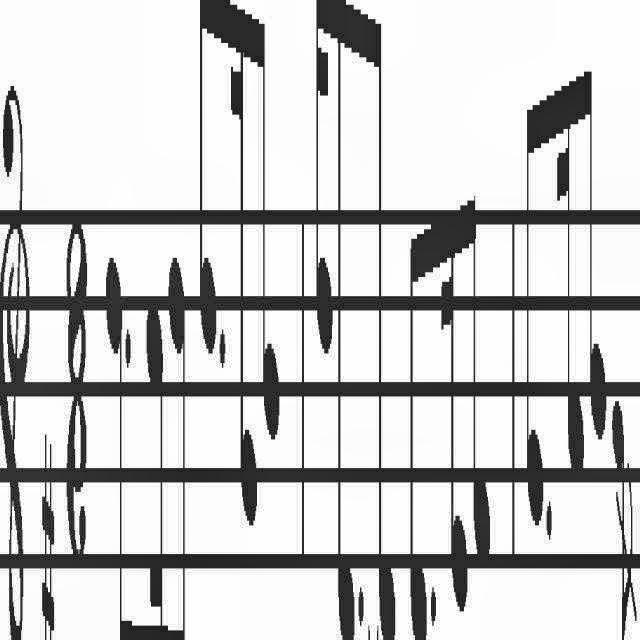Bass-clef: (0, 76, 30, 640)
Diez: (41, 430, 55, 640)
Eighth-note: (334, 0, 354, 640), (376, 14, 396, 640), (525, 88, 547, 526), (584, 63, 608, 460), (165, 248, 189, 640), (260, 0, 280, 444), (104, 258, 126, 640), (408, 220, 428, 640), (197, 0, 219, 368), (468, 191, 489, 569)
Sixteenth-note: (230, 2, 258, 528), (440, 183, 468, 632), (557, 67, 585, 485), (314, 0, 334, 368), (146, 300, 164, 640)
